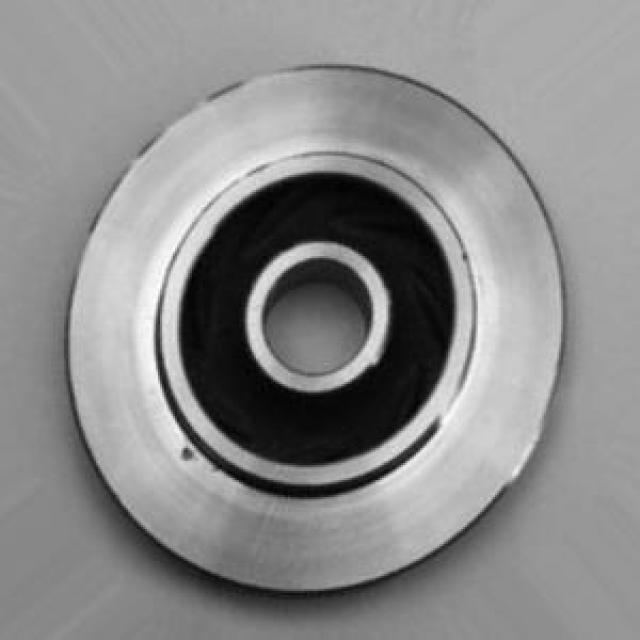Defect: (174, 438, 201, 474)
